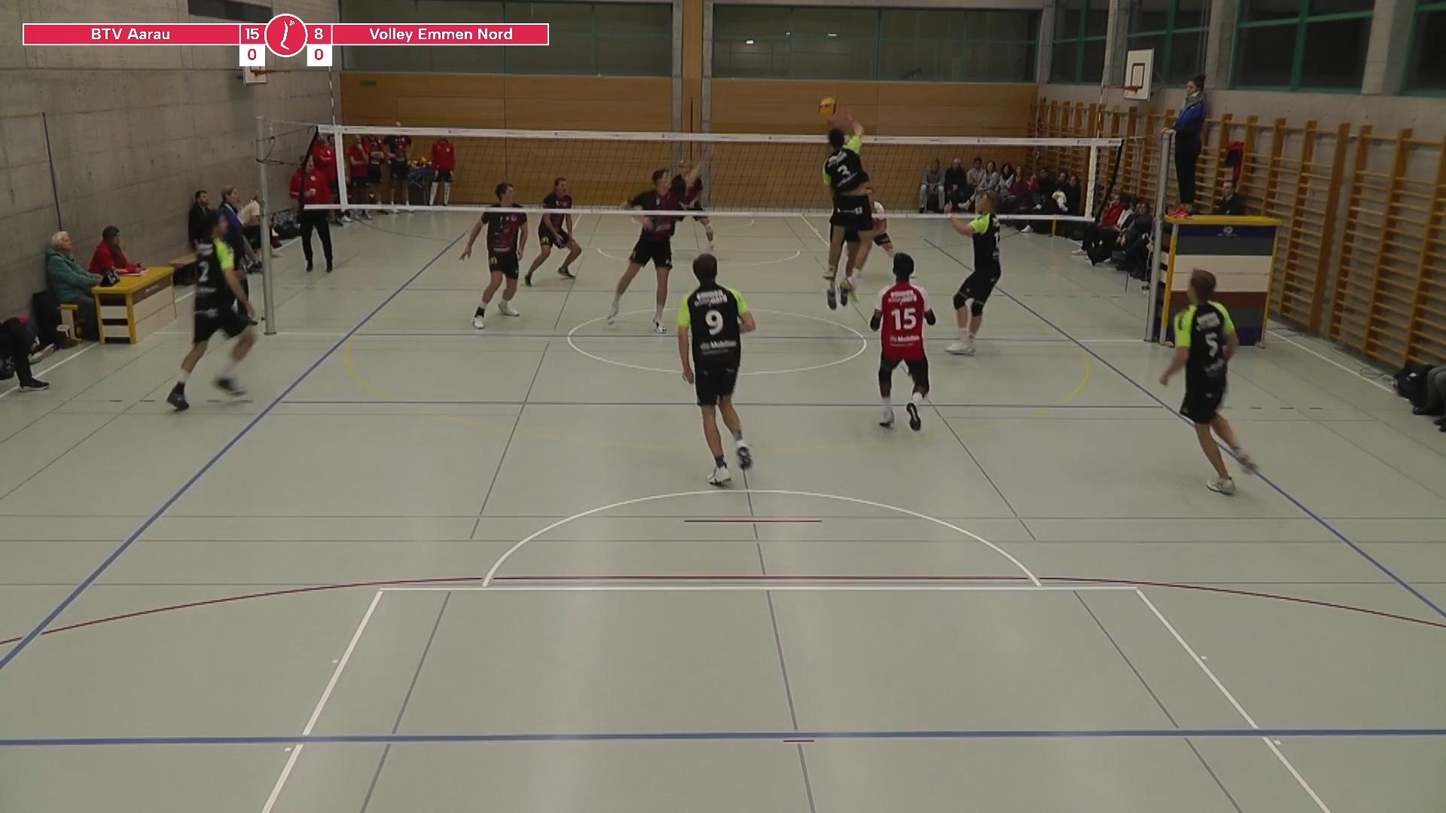Attack: (818, 114, 877, 310)
Player: (1160, 269, 1257, 495), (677, 254, 755, 486), (166, 211, 254, 411), (870, 253, 935, 431), (946, 192, 1001, 355), (607, 215, 681, 334), (461, 210, 526, 329), (524, 177, 581, 285), (676, 158, 714, 252), (868, 187, 895, 259)
ball: (815, 90, 842, 114)
